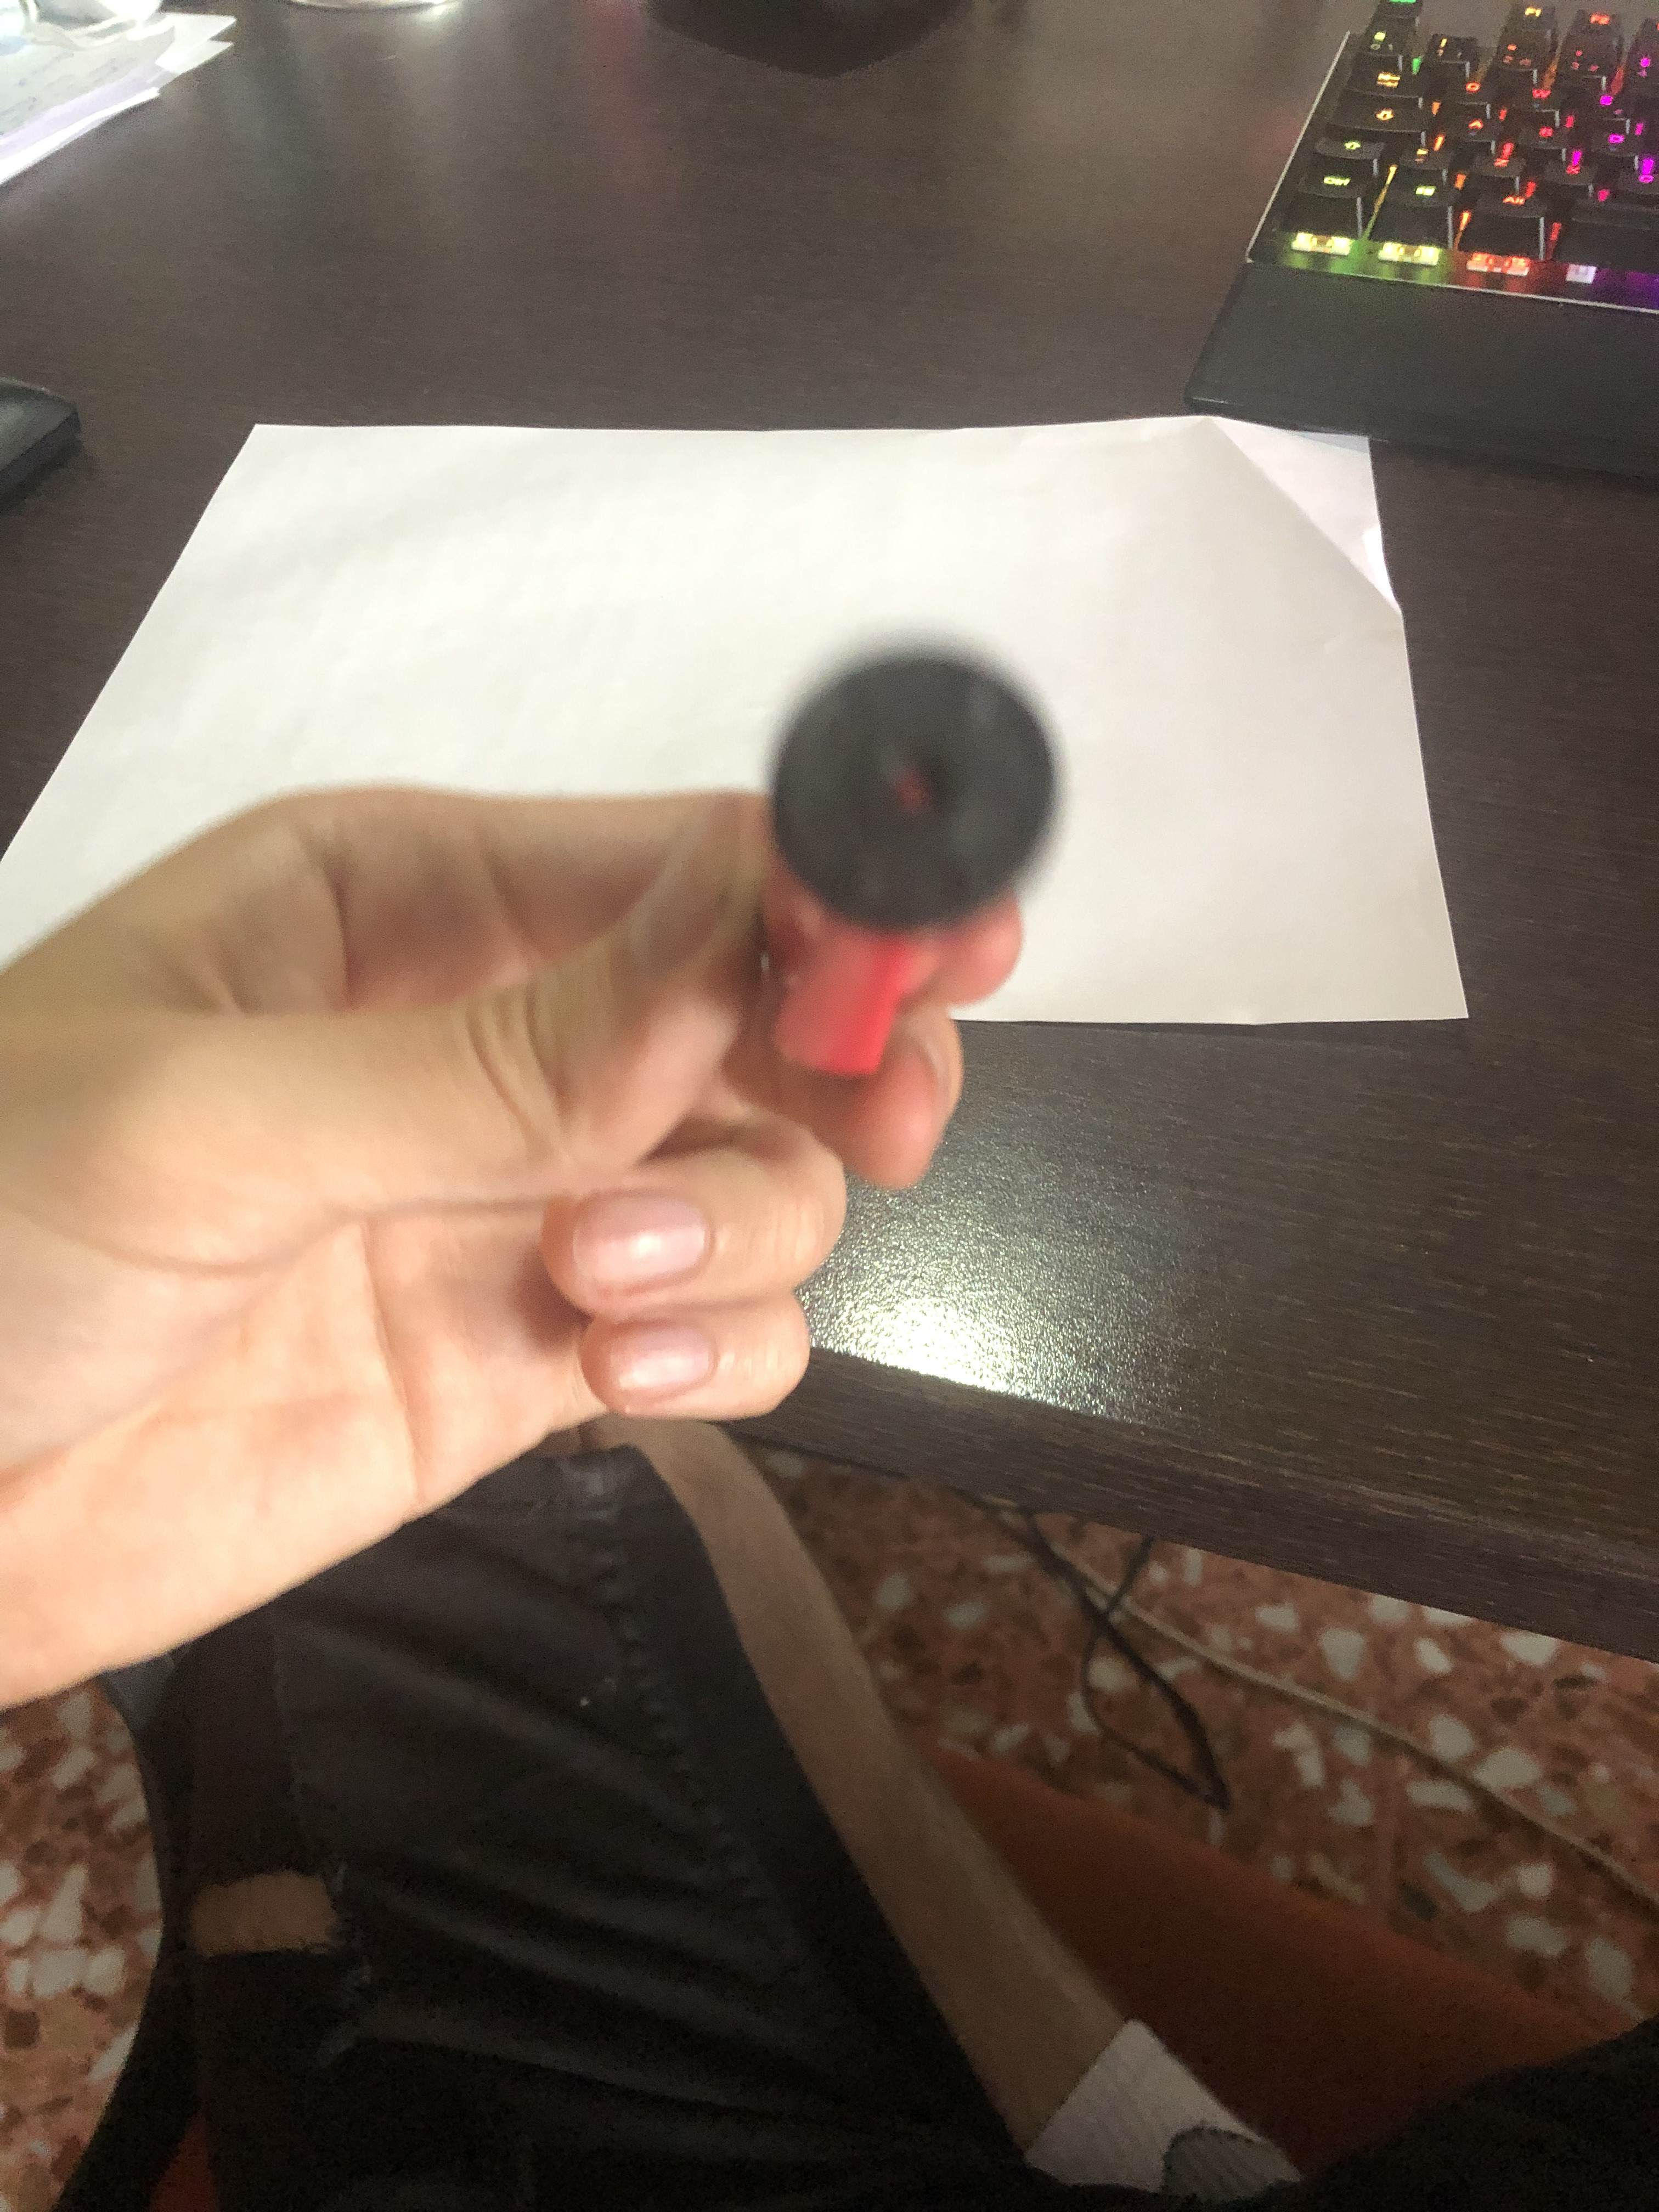Mechero: (735, 611, 1075, 1069)
